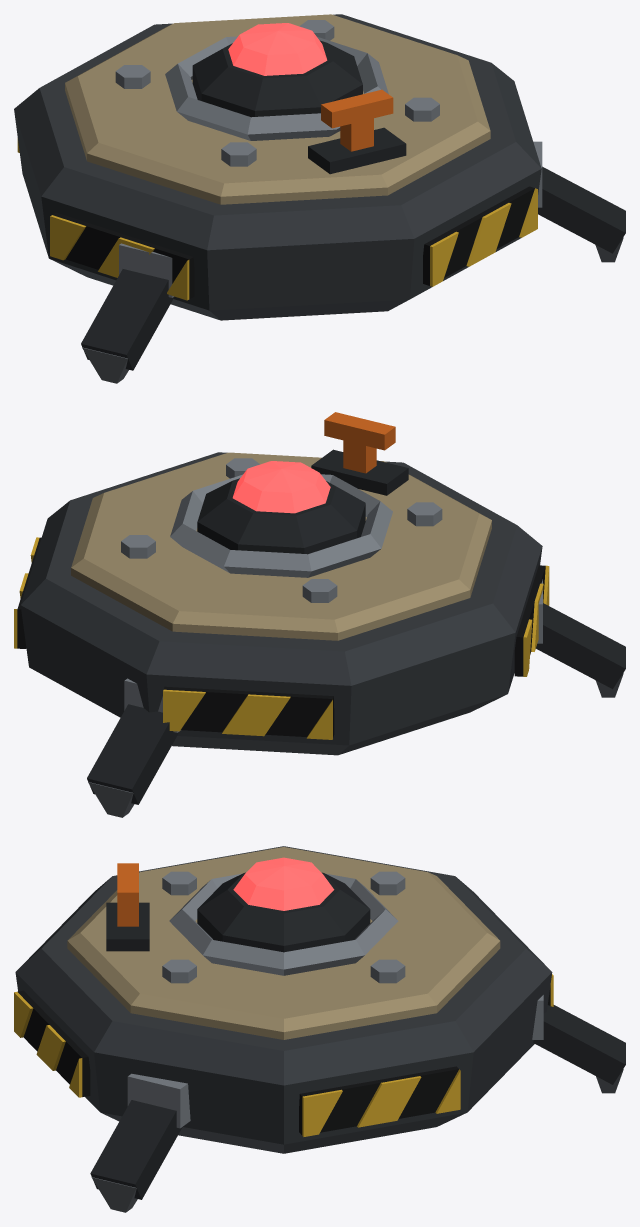
Rendered from mine.fbx.
3 renders of one model, top to bottom at view 1: azimuth 30°, elevation 25°; view 2: azimuth 150°, elevation 25°; view 3: azimuth 270°, elevation 25°, orthographic.
Parts seen in each view (by area): view 1: Body, Light; view 2: Body, Light; view 3: Body, Light.
Boxes of the visible parts, x1=… form: Body: x1=14, y1=14, x2=625, y2=383; Light: x1=228, y1=23, x2=327, y2=75; Body: x1=14, y1=412, x2=625, y2=817; Light: x1=232, y1=461, x2=330, y2=513; Body: x1=14, y1=846, x2=625, y2=1212; Light: x1=233, y1=857, x2=334, y2=910.
Bounding box in the file's own units: 1.43 × 0.57 × 1.41.
Materials: 2 (1 with a texture image).
